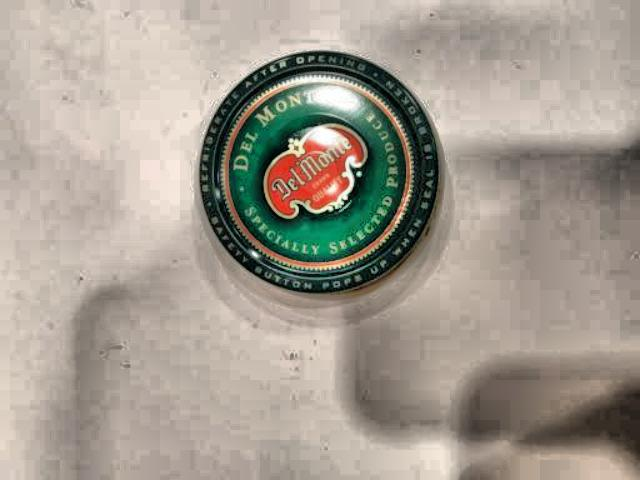Almennt: (179, 37, 469, 317)
